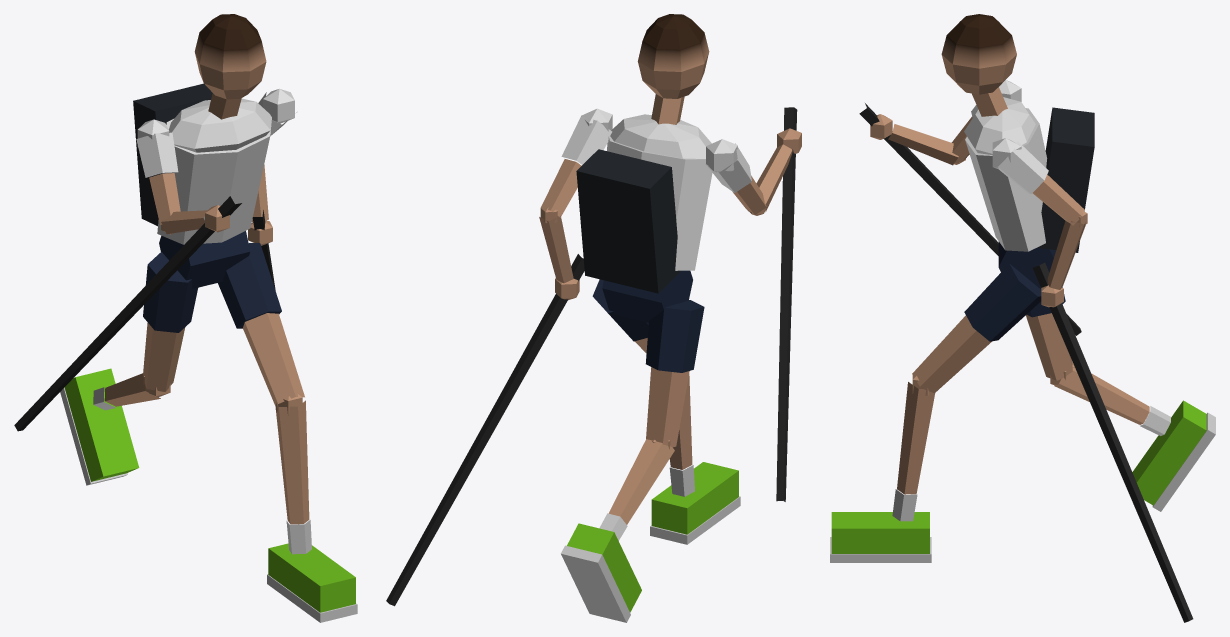
File: corredor-a.glb
3 renders of one model, left to right at view 1: azimuth 30°, elevation 25°; view 2: azimuth 150°, elevation 25°; view 3: azimuth 270°, elevation 25°, orthographic. The views are drawn at different scales.
Visible parts, largest first — view 1: Corredor_A_HombreAltoDelgado_EXP; view 2: Corredor_A_HombreAltoDelgado_EXP; view 3: Corredor_A_HombreAltoDelgado_EXP.
Boxes of the visible parts, <box> form: Corredor_A_HombreAltoDelgado_EXP: <box>14,14,357,622</box>; Corredor_A_HombreAltoDelgado_EXP: <box>386,14,801,622</box>; Corredor_A_HombreAltoDelgado_EXP: <box>830,14,1215,622</box>.
Size of the model in its own units: 1.2 by 1.86 by 1.24.
